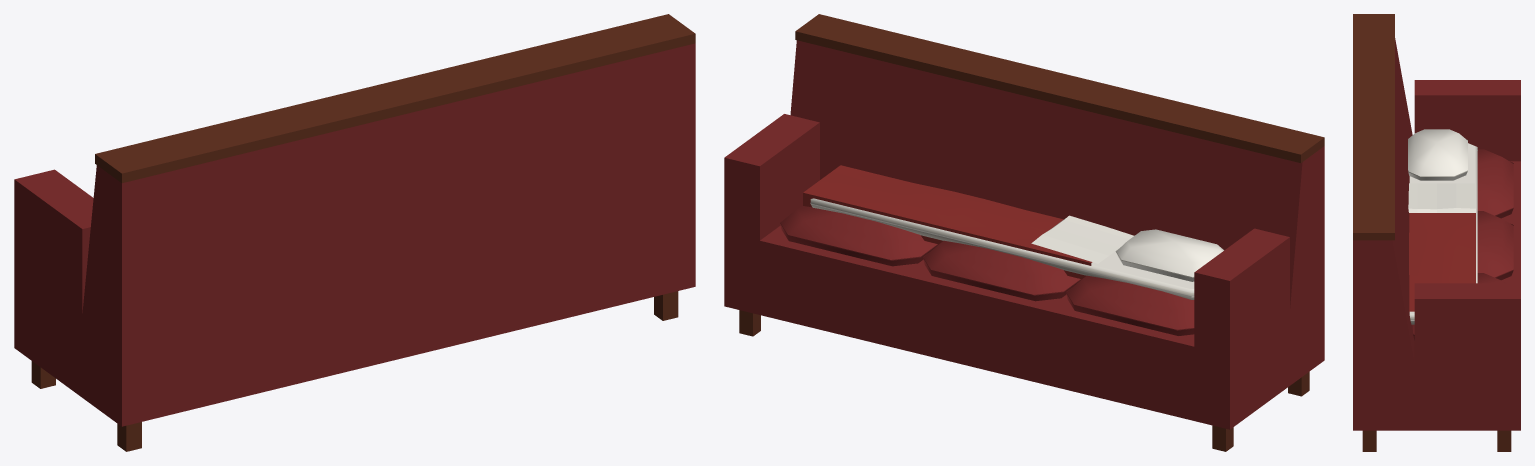
3 views of the same model, side by side, from view 1: azimuth 30°, elevation 25°; view 2: azimuth 150°, elevation 25°; view 3: azimuth 270°, elevation 25° (orthographic). The views are drawn at different scales.
Visible parts, largest first — view 1: parametric-variant-sofa-2nd-8f33582ae0afd34a2722; view 2: parametric-variant-sofa-2nd-8f33582ae0afd34a2722; view 3: parametric-variant-sofa-2nd-8f33582ae0afd34a2722.
Part boxes in pixels (x1,y1,x2,y2): parametric-variant-sofa-2nd-8f33582ae0afd34a2722: (14, 14, 695, 451); parametric-variant-sofa-2nd-8f33582ae0afd34a2722: (724, 14, 1324, 451); parametric-variant-sofa-2nd-8f33582ae0afd34a2722: (1353, 14, 1520, 451).
Bounding box in the file's own units: 1.85 × 0.88 × 0.6.
